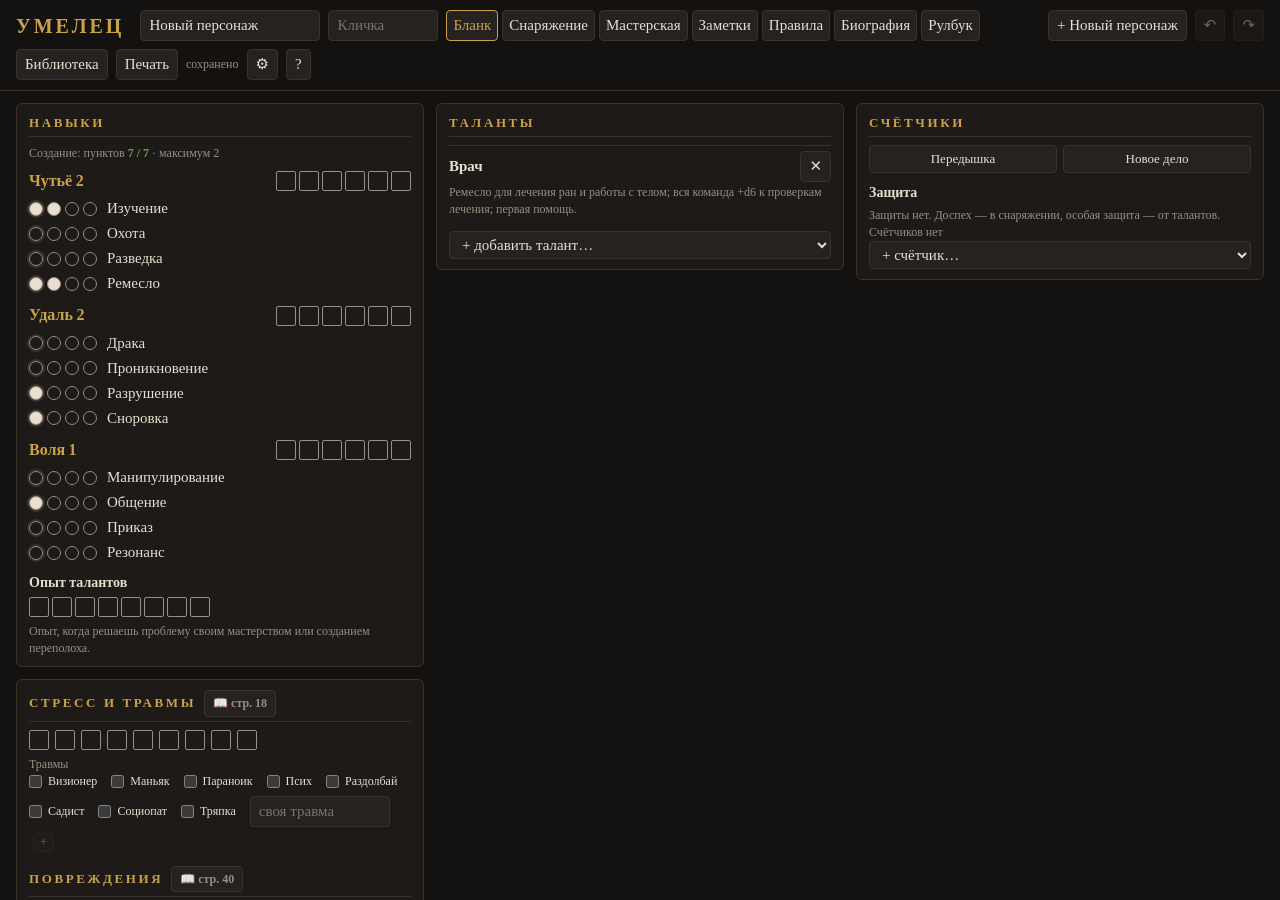
Scenario: Снаряжение: нагрузка › own item can be renamed and a book item keeps its book name as placeholder
Later steps or results of the test are not shown.
What coordinates should you click on to do the following:
click the button "Снаряжение"
I would click on:
 (549, 26)
Its box is 502,10 -> 595,41.
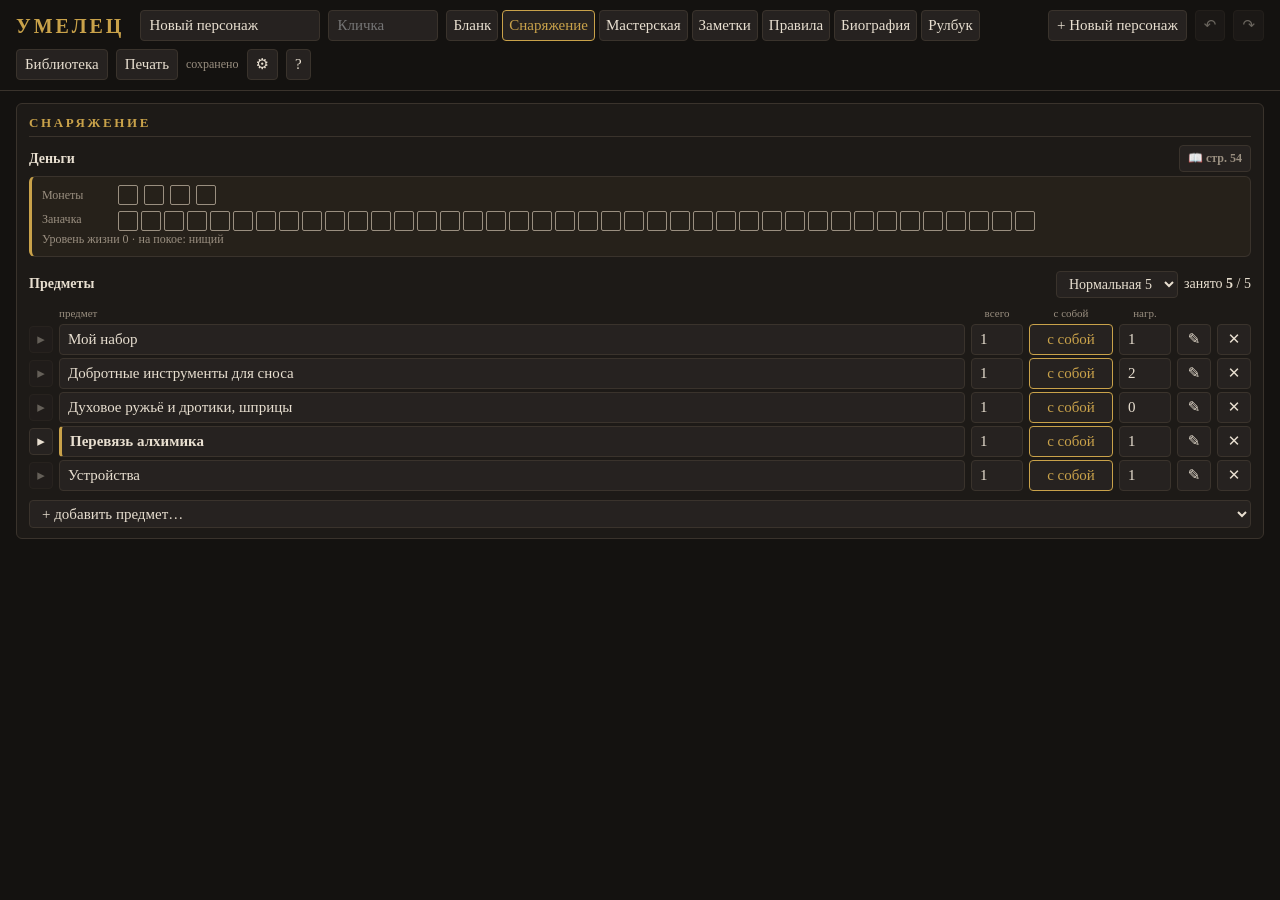
expect the field named "по книге: Добротные инструменты механика" is not empty: met, box 59,324 -> 965,355
